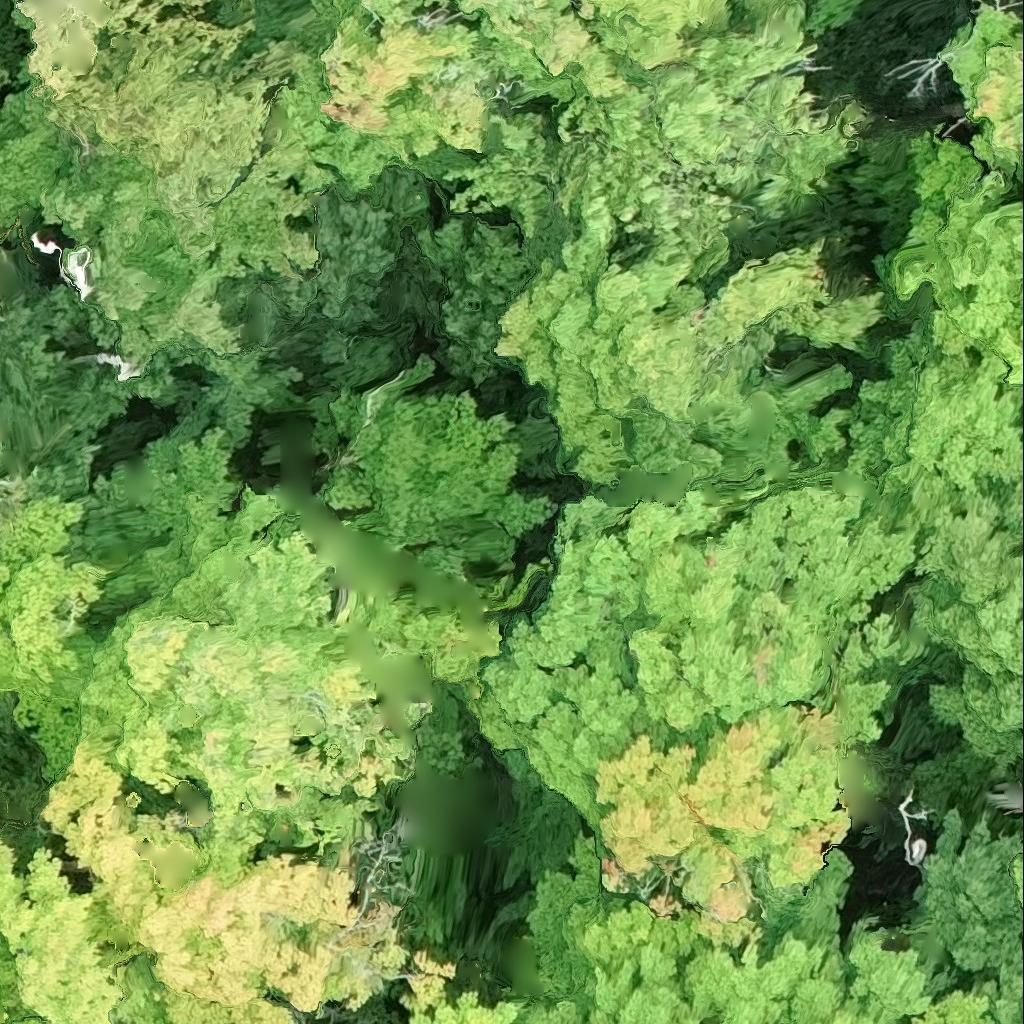crown: (475, 484, 916, 940), (0, 758, 458, 1023), (511, 823, 989, 1023), (846, 311, 1023, 776), (316, 358, 556, 583), (888, 130, 1023, 380), (920, 811, 1023, 1023), (444, 301, 524, 383), (401, 991, 540, 1023), (0, 446, 37, 531), (0, 992, 9, 1023)
